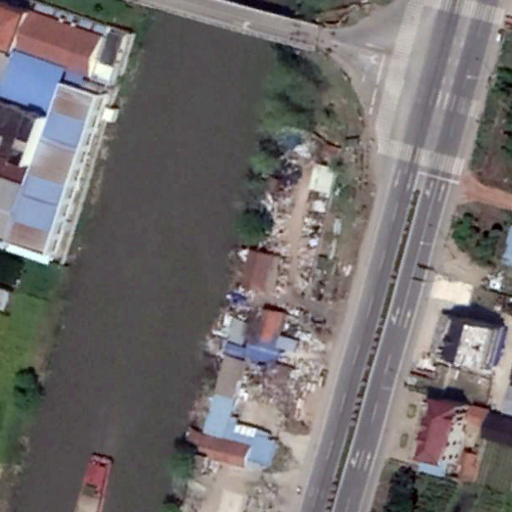msw: (254, 127, 329, 301), (235, 326, 328, 427)
